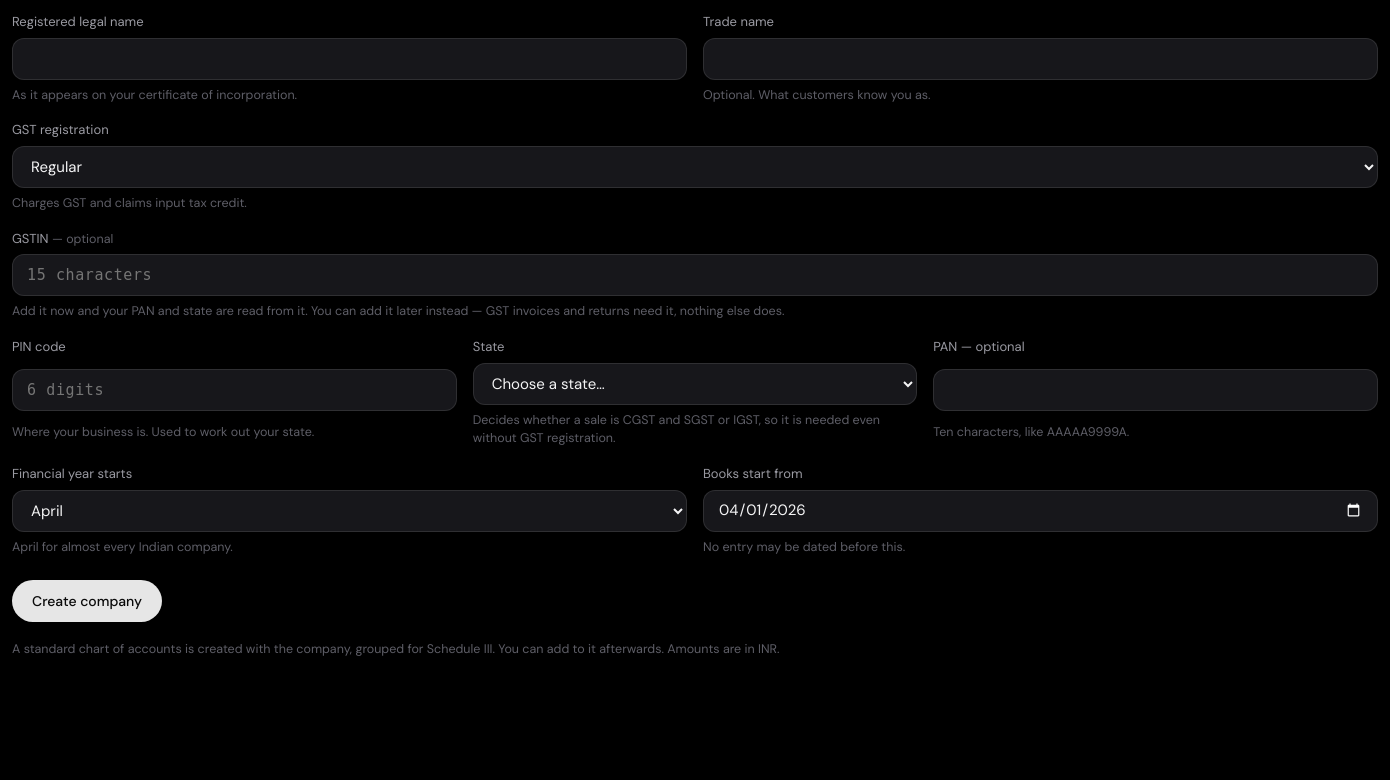
Test: CompanyForm › offers both states where a PIN code spans two, and preselects neither
Type "500001" into the field labelled "PIN code".
click(234, 390); type("500001")  # box 12,369 -> 457,411
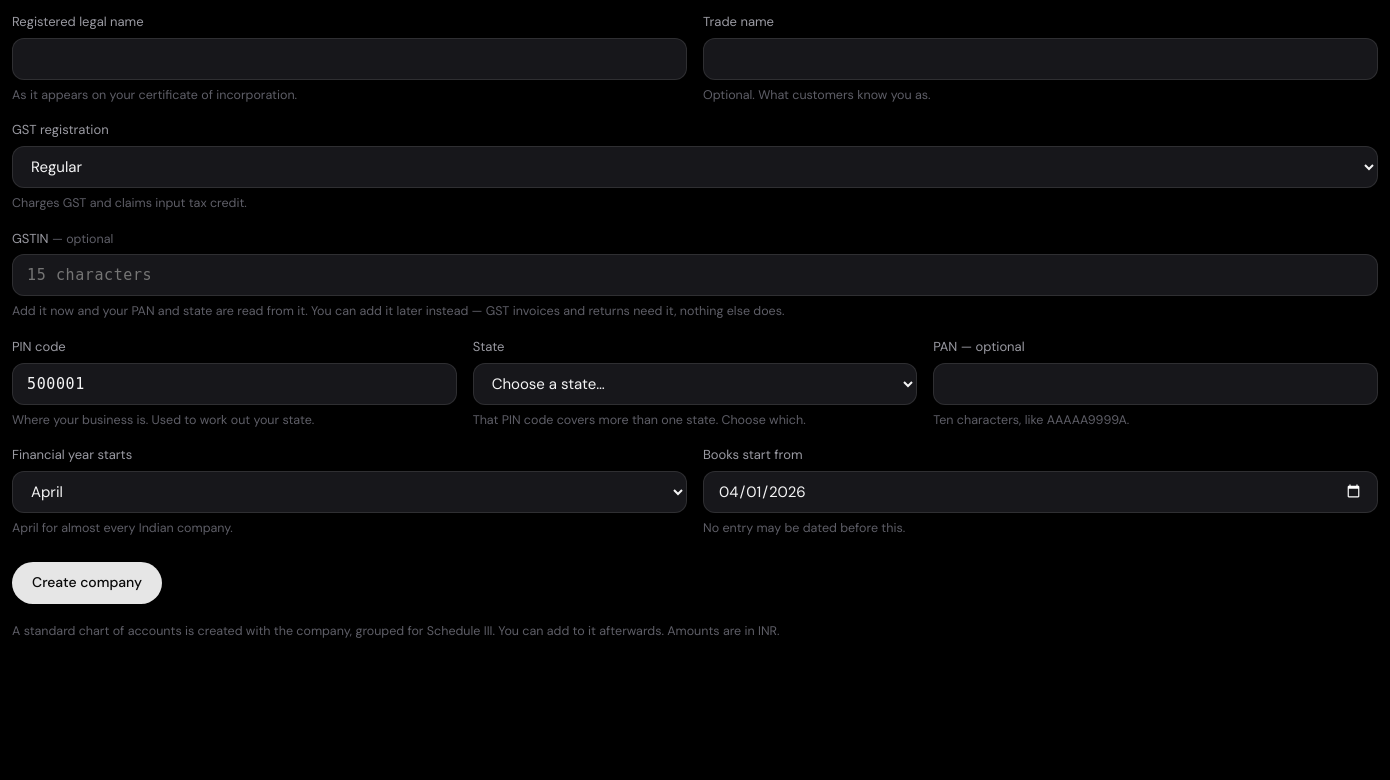
Expected: the dropdown labelled "State" shows "Choose a state…", 473,362 -> 917,404
Expected: the text "That PIN code covers more than one state. Choose which." is shown, 473,412 -> 806,428
